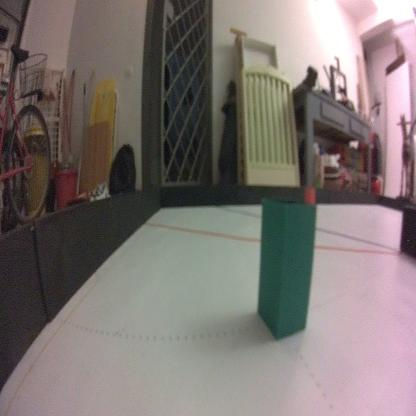green: (254, 194, 319, 340)
red: (302, 185, 316, 204)
